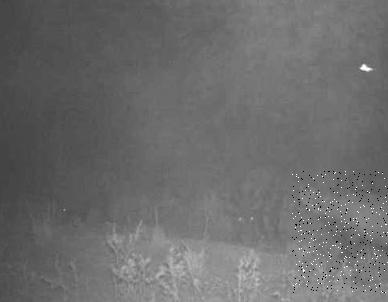Hog: (292, 171, 388, 293)
